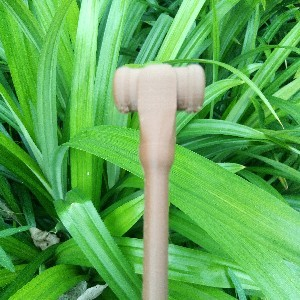palu: (112, 62, 206, 300)
